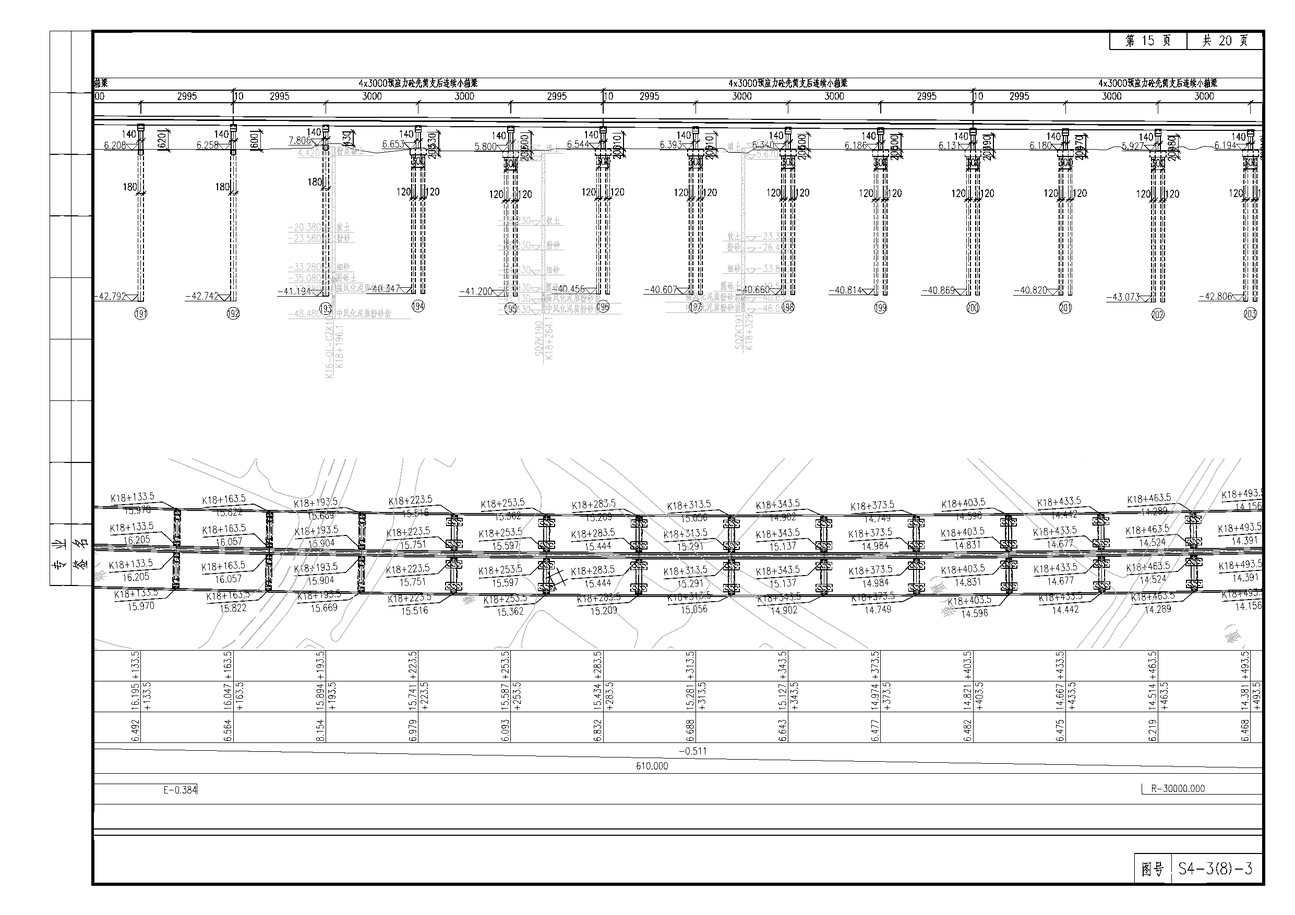A: (92, 59, 1267, 360)
